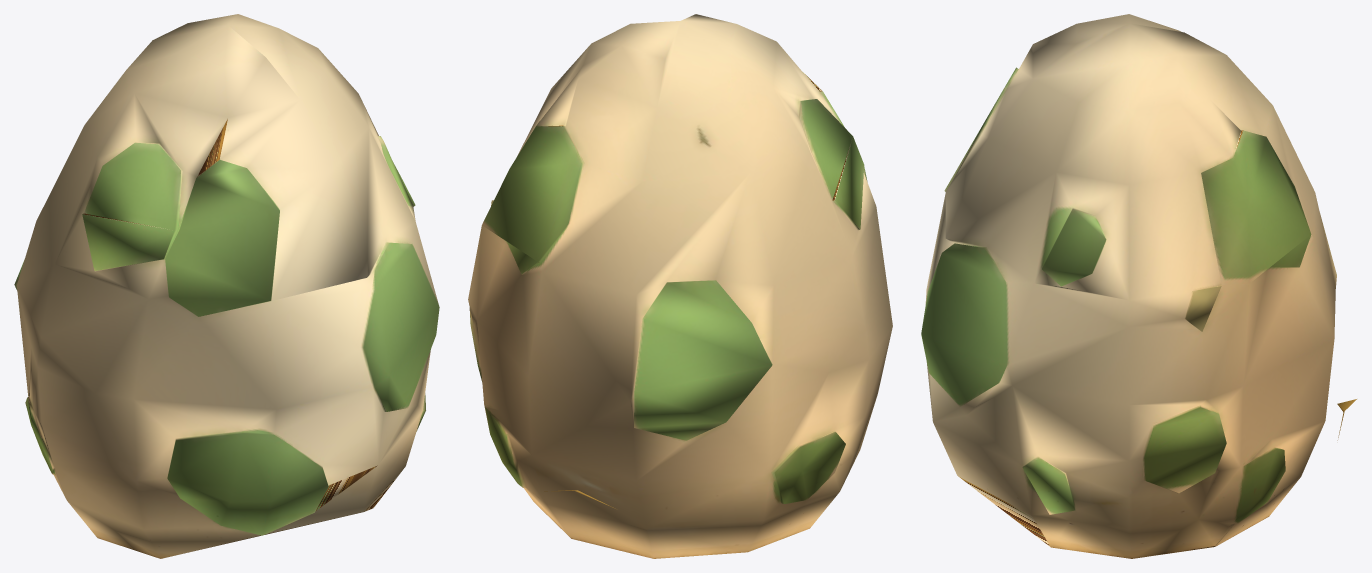
3 views of the same model, side by side, from view 1: azimuth 30°, elevation 25°; view 2: azimuth 150°, elevation 25°; view 3: azimuth 270°, elevation 25° (orthographic).
Parts seen in each view (by area): view 1: egg; view 2: egg; view 3: egg.
Part boxes in pixels (<box>): egg: <box>14,14,439,558</box>; egg: <box>468,14,892,558</box>; egg: <box>921,14,1356,558</box>.
Size of the model in its own units: 0.6556 by 0.7984 by 0.6654.
Materials: 1 (1 with a texture image).
